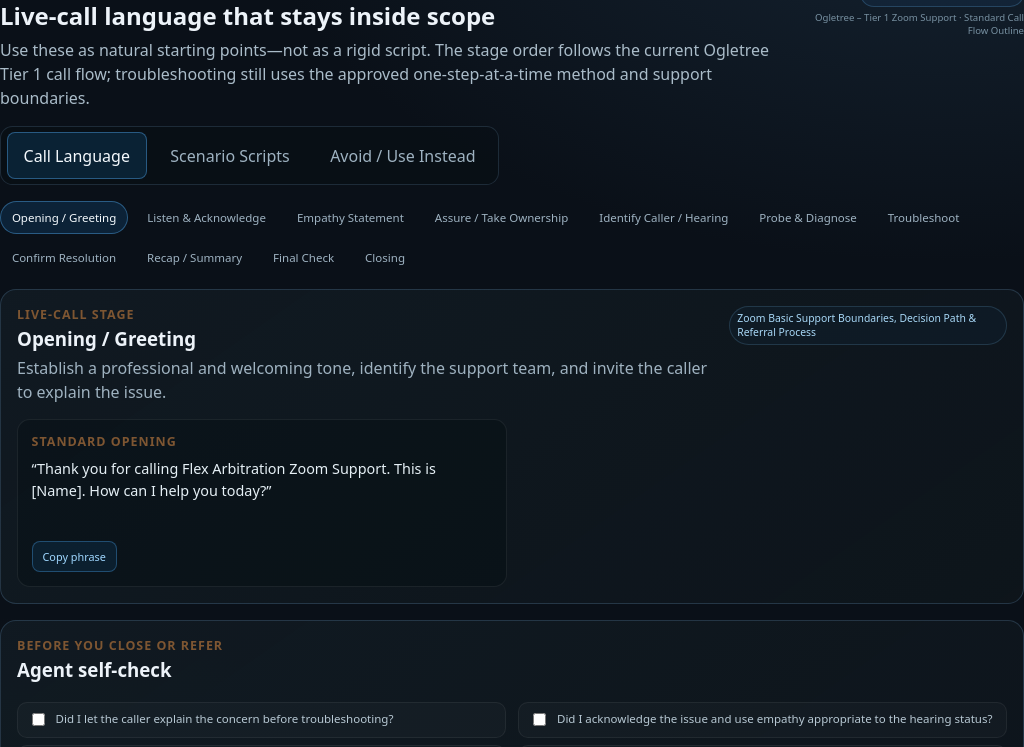
shows approved Avoid / Use Instead guardrails
Click the tab "Avoid / Use Instead": (403, 156) x1=313 y1=132 x2=492 y2=179
(page scrolled)
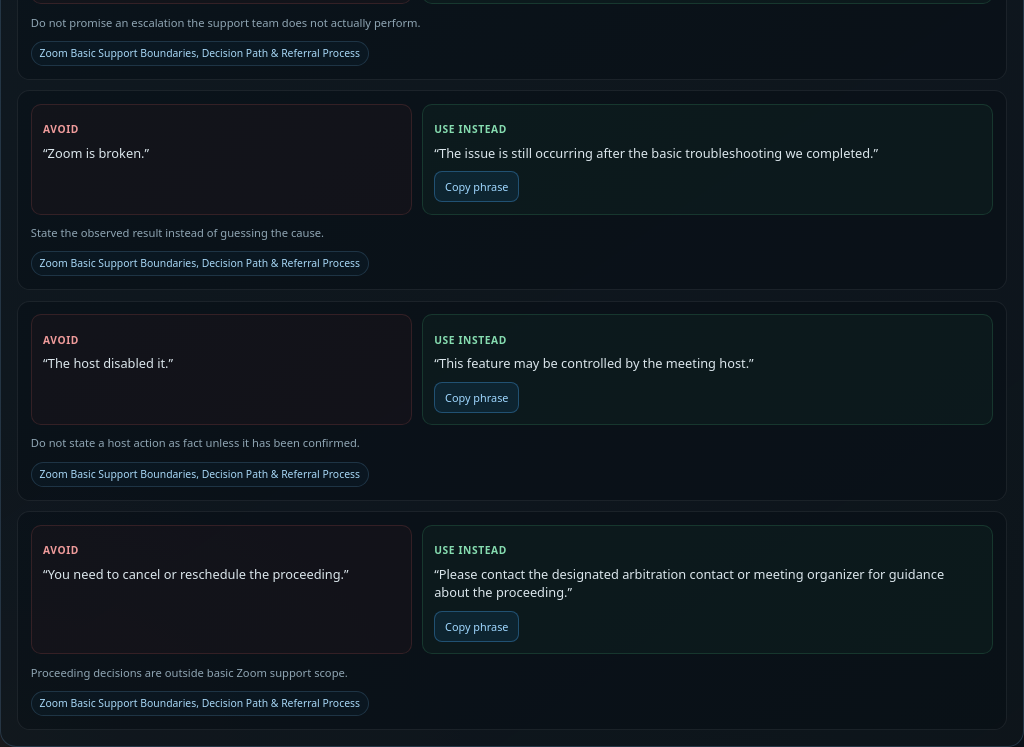
Expected: the text "“Zoom is broken.”" is shown, x1=43 y1=144 x2=149 y2=162
Expected: the text "issue is still occurring after the basic troubleshooting" is shown, x1=434 y1=144 x2=878 y2=162
Expected: the text "“The host disabled it.”" is shown, x1=43 y1=354 x2=173 y2=372
